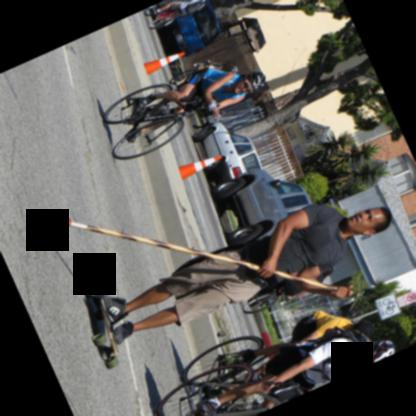backpack: (315, 328, 369, 359), (183, 0, 206, 15)
